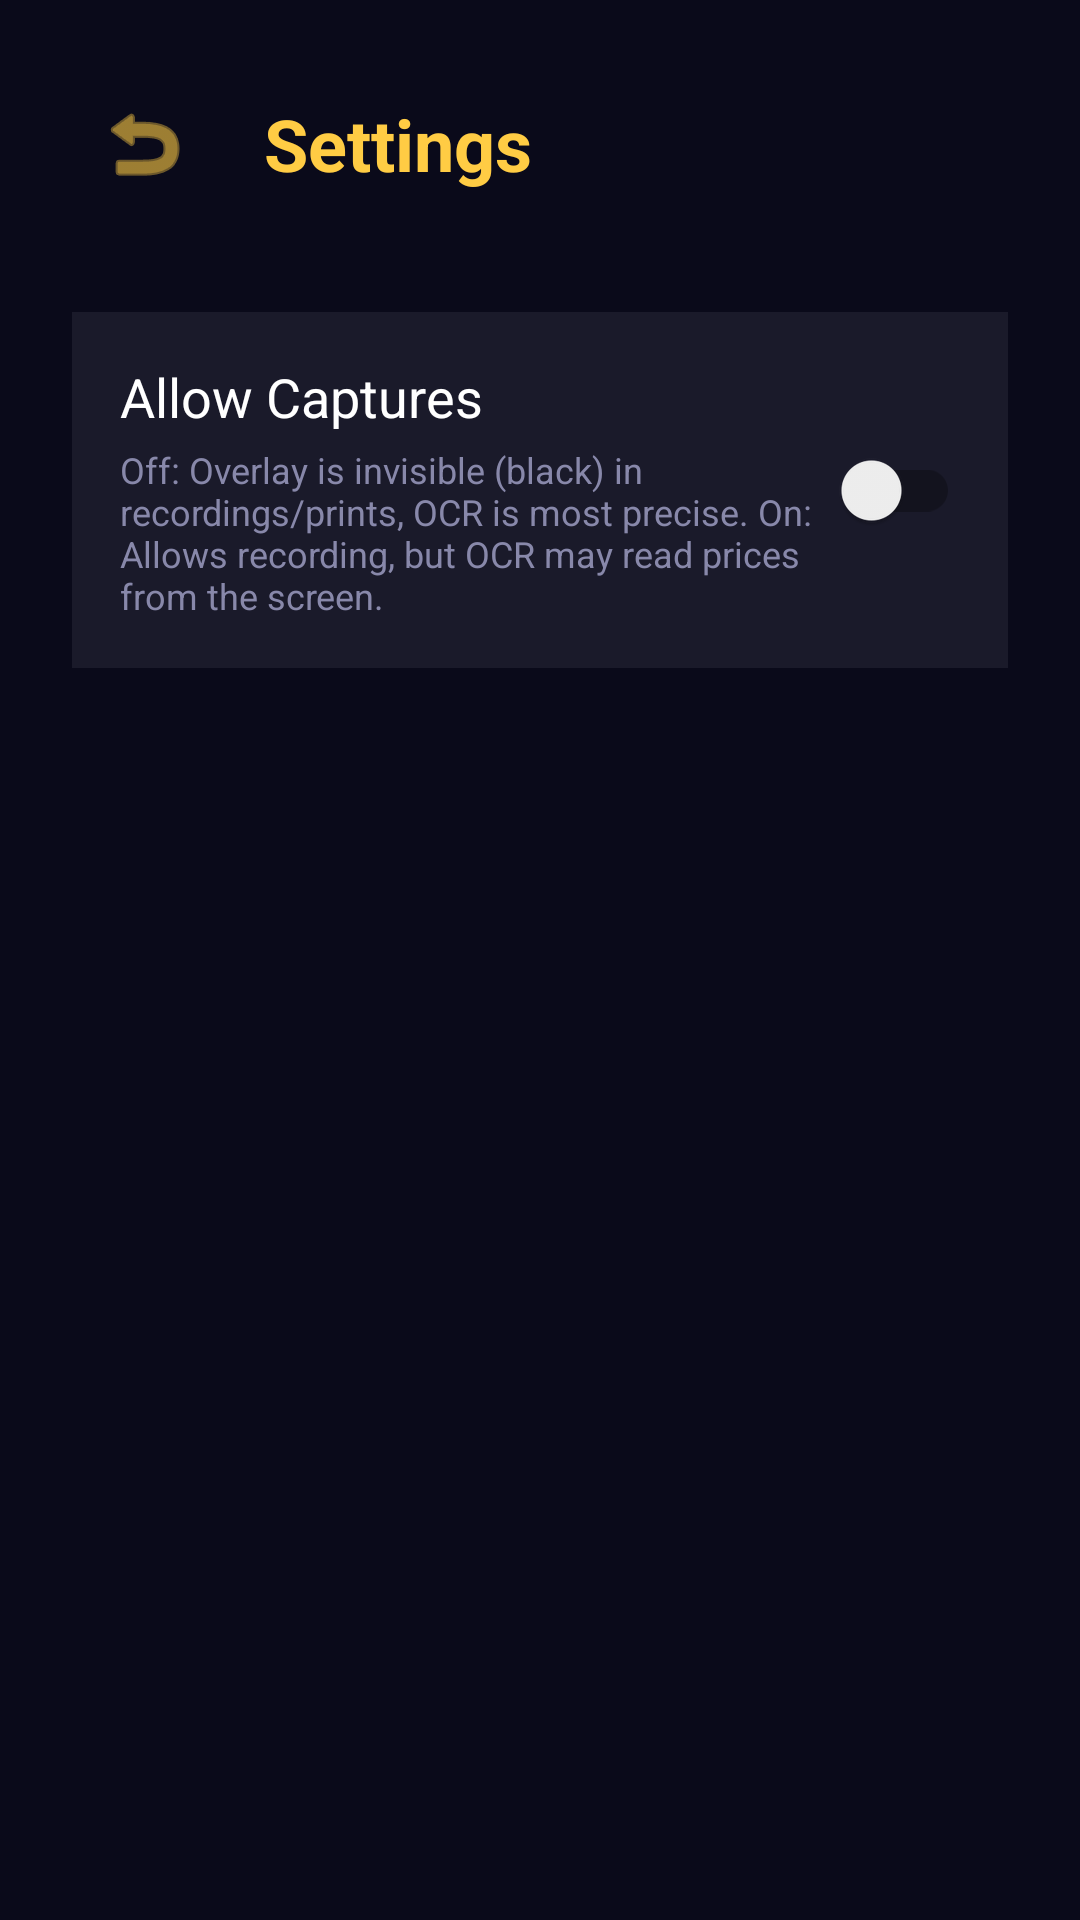

Screen size 1080*1920. Icon name, then its center in pixels as (x,y):
Back: (145,144)
